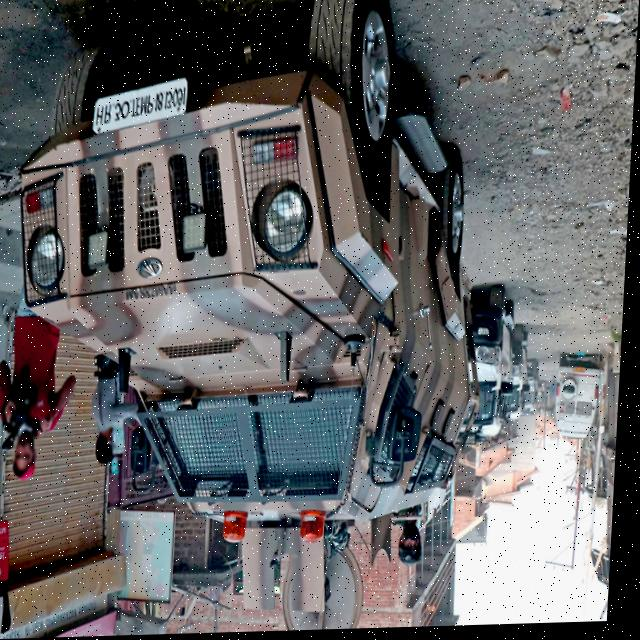plate: (90, 74, 194, 138), (576, 369, 591, 378)
